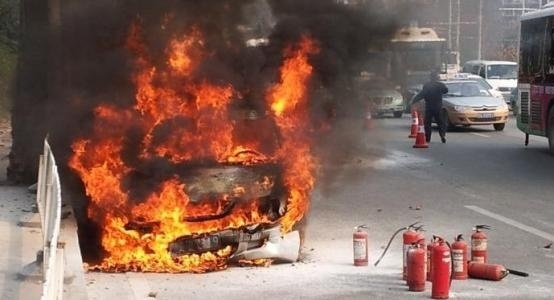fire: (50, 18, 325, 279)
